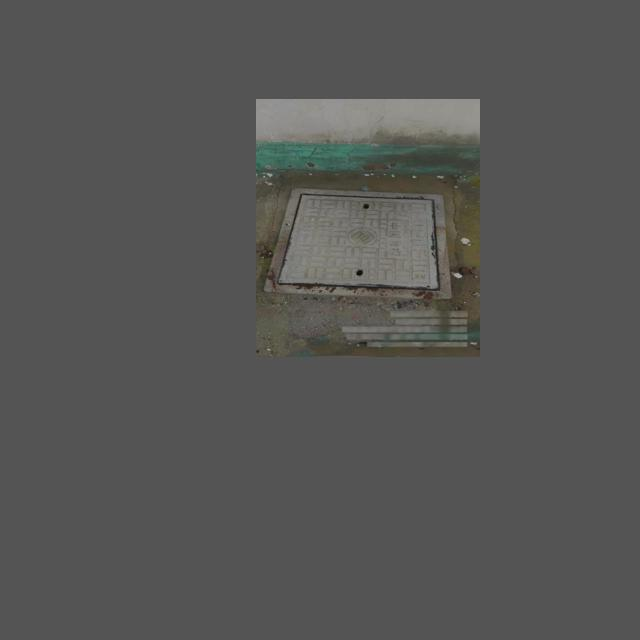good: (265, 187, 453, 298)
